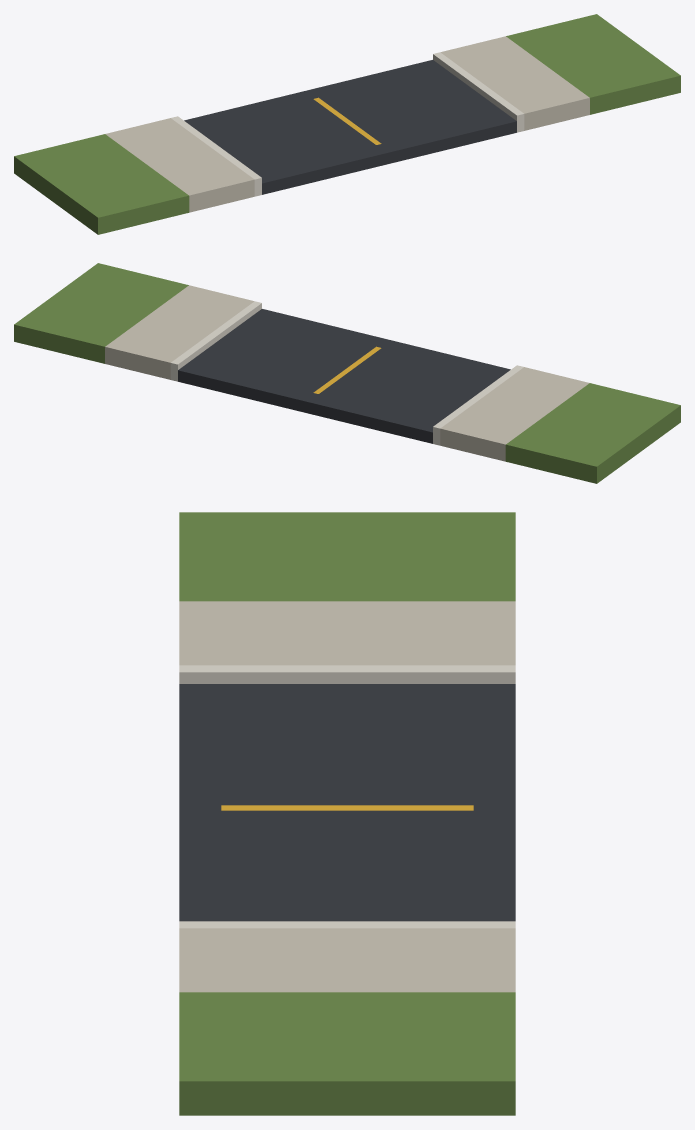
Rendered from Road_2Lane_Sidewalk_Straight_4m.glb.
3 renders of one model, top to bottom at view 1: azimuth 30°, elevation 25°; view 2: azimuth 150°, elevation 25°; view 3: azimuth 270°, elevation 25°, orthographic. The views are drawn at different scales.
Parts seen in each view (by area): view 1: Road_2Lane_Sidewalk_Straight_4m_Asphalt, Road_2Lane_Sidewalk_Straight_4m_Grass-edge, Road_2Lane_Sidewalk_Straight_4m_Sidewalk, Road_2Lane_Sidewalk_Straight_4m_Curb, Road_2Lane_Sidewalk_Straight_4m_PaintYellow; view 2: Road_2Lane_Sidewalk_Straight_4m_Asphalt, Road_2Lane_Sidewalk_Straight_4m_Grass-edge, Road_2Lane_Sidewalk_Straight_4m_Sidewalk, Road_2Lane_Sidewalk_Straight_4m_Curb, Road_2Lane_Sidewalk_Straight_4m_PaintYellow; view 3: Road_2Lane_Sidewalk_Straight_4m_Asphalt, Road_2Lane_Sidewalk_Straight_4m_Grass-edge, Road_2Lane_Sidewalk_Straight_4m_Sidewalk, Road_2Lane_Sidewalk_Straight_4m_Curb, Road_2Lane_Sidewalk_Straight_4m_PaintYellow.
Part boxes in pixels (<box>): Road_2Lane_Sidewalk_Straight_4m_Asphalt: <box>184,60,516,194</box>; Road_2Lane_Sidewalk_Straight_4m_Grass-edge: <box>14,14,680,234</box>; Road_2Lane_Sidewalk_Straight_4m_Sidewalk: <box>105,36,589,212</box>; Road_2Lane_Sidewalk_Straight_4m_Curb: <box>171,52,524,196</box>; Road_2Lane_Sidewalk_Straight_4m_PaintYellow: <box>313,97,381,144</box>; Road_2Lane_Sidewalk_Straight_4m_Asphalt: <box>178,309,510,443</box>; Road_2Lane_Sidewalk_Straight_4m_Grass-edge: <box>14,263,680,483</box>; Road_2Lane_Sidewalk_Straight_4m_Sidewalk: <box>105,285,589,461</box>; Road_2Lane_Sidewalk_Straight_4m_Curb: <box>170,301,523,445</box>; Road_2Lane_Sidewalk_Straight_4m_PaintYellow: <box>313,346,381,393</box>; Road_2Lane_Sidewalk_Straight_4m_Asphalt: <box>179,684,515,921</box>; Road_2Lane_Sidewalk_Straight_4m_Grass-edge: <box>179,512,515,1115</box>; Road_2Lane_Sidewalk_Straight_4m_Sidewalk: <box>179,601,515,992</box>; Road_2Lane_Sidewalk_Straight_4m_Curb: <box>179,665,515,928</box>; Road_2Lane_Sidewalk_Straight_4m_PaintYellow: <box>221,805,473,810</box>.
Size of the model in its own units: 16 by 0.45 by 4.
